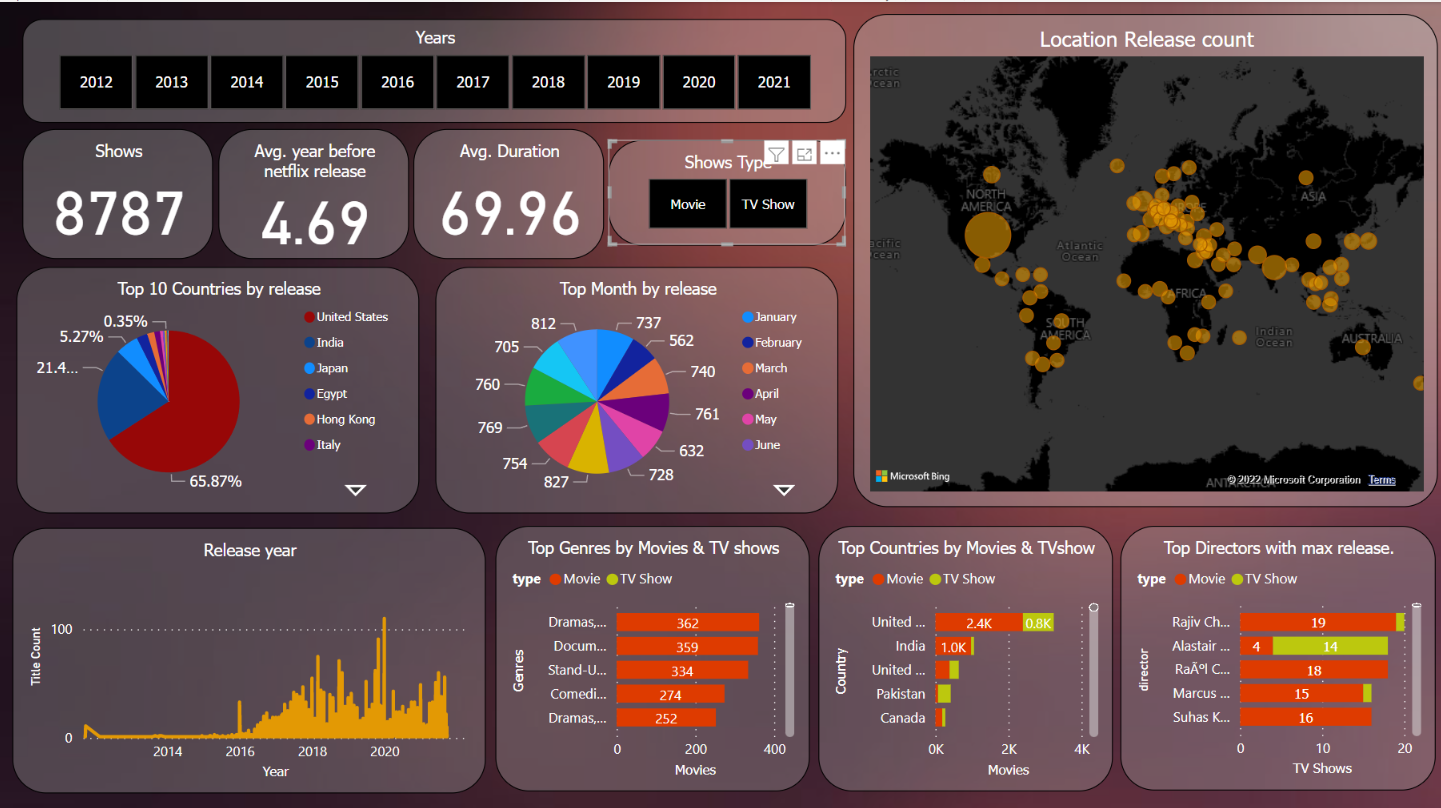

Layout of this report page (visuals, bound fields, positions):
{"tool":"powerbi","page":{"name":"Netflix Analysis","canvas":[1280,720],"ordinal":0},"visuals":[{"type":"slicer","title":"Years","fields":{"Values":["netflix 1.release_year"]},"box":[22,15.1,729.3,92],"z":0},{"type":"slicer","title":"Shows Type","fields":{"Values":["netflix.type"]},"box":[541.1,122,210.1,93.4],"z":1000},{"type":"map","title":"Location Release count","fields":{"Category":["netflix.country"],"Size":["CountNonNull(netflix.show_id)"]},"box":[758.1,11,517.8,436.7],"z":2000},{"type":"card","title":"Shows","fields":{"Values":["netflix.Shows"]},"box":[21.7,112.3,168.9,115.4],"z":3000},{"type":"pieChart","title":"Top 10 Country by release ","fields":{"Category":["netflix.country"],"Y":["CountNonNull(netflix.title)"]},"box":[16.5,235.1,357,218.4],"z":4000},{"type":"pieChart","title":"Top Month by release ","fields":{"Y":["CountNonNull(netflix.title)"],"Category":["netflix.date_added.Variation.Date Hierarchy.Month"]},"box":[387.6,235,357.1,218.4],"z":5000},{"type":"card","title":"Avg. year before netflix release","fields":{"Values":["netflix.avg_year_before_add"]},"box":[196.1,112.6,168.9,115.4],"z":6000},{"type":"card","title":"Avg. Duration","fields":{"Values":["netflix.avg_duration"]},"box":[368.1,112.3,168.9,115.4],"z":7000},{"type":"lineChart","title":"Release year","fields":{"Category":["netflix.date_added"],"Y":["CountNonNull(netflix.title)"]},"box":[13.4,465.9,419.2,235.4],"z":8000},{"type":"barChart","title":"Top  Country by Movies & TV shows","fields":{"Y":["CountNonNull(netflix.title)"],"Category":["netflix.country"],"Series":["netflix.type"]},"box":[727.3,463.8,260.7,235.4],"z":9000},{"type":"barChart","title":"Top Directors with most release.","fields":{"Series":["netflix.type"],"Category":["netflix.director"],"Y":["CountNonNull(netflix.title)"]},"box":[994.6,464,279.1,234.4],"z":10000},{"type":"barChart","title":"Top  Genres by Movies & TV shows","fields":{"Y":["CountNonNull(netflix.title)"],"Series":["netflix.type"],"Category":["netflix.listed_in"]},"box":[440.8,464,278.2,235.4],"z":11000}]}

Visuals, with their boxes in screenshot pixels (x1, y1, x2, y2), scaled from the page's 1280x720 canvas onto the 1441x808 screenshot:
"Years" slicer: 25:17:846:120
"Shows Type" slicer: 609:137:846:242
"Location Release count" map: 853:12:1436:502
"Shows" card: 24:126:215:256
"Top 10 Country by release " pieChart: 19:264:420:509
"Top Month by release " pieChart: 436:264:838:509
"Avg. year before netflix release" card: 221:126:411:256
"Avg. Duration" card: 414:126:605:256
"Release year" lineChart: 15:523:487:787
"Top  Country by Movies & TV shows" barChart: 819:520:1112:785
"Top Directors with most release." barChart: 1120:521:1434:784
"Top  Genres by Movies & TV shows" barChart: 496:521:809:785
